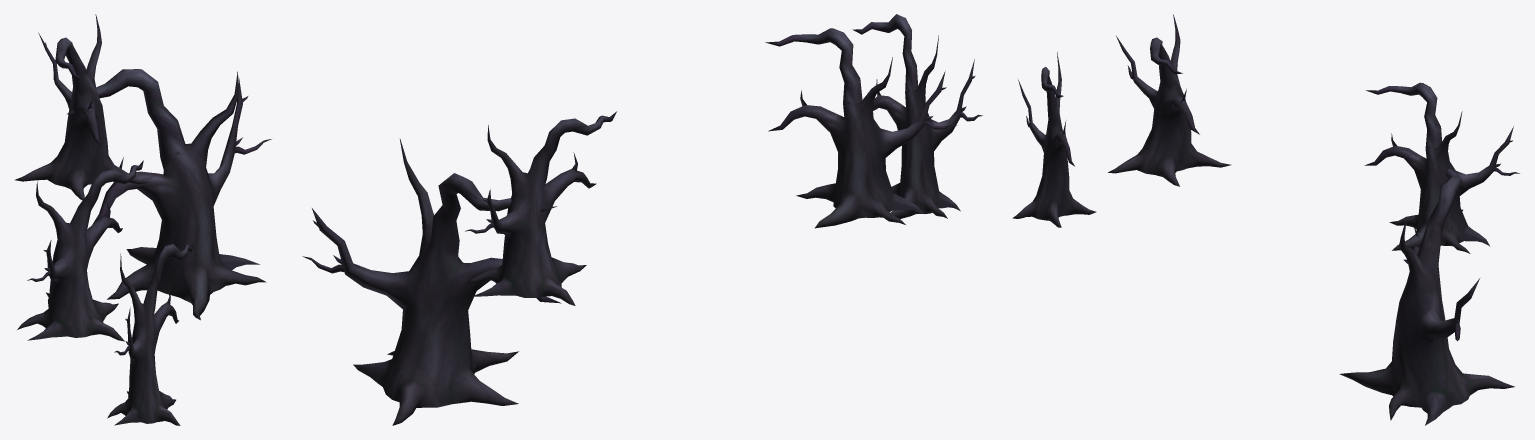
File: Area03_9.fbx
The picture shows the model from 3 angles, left to right: view 1: azimuth 30°, elevation 25°; view 2: azimuth 150°, elevation 25°; view 3: azimuth 270°, elevation 25°; orthographic projection. The views are drawn at different scales.
Parts seen in each view (by area): view 1: Area03_9; view 2: Area03_9; view 3: Area03_9.
Part boxes in pixels (x1,y1,x2,y2): Area03_9: (15,14,271,425); Area03_9: (302,14,982,425); Area03_9: (1012,14,1519,425).
Size of the model in its own units: 3585 by 2220 by 4028.
